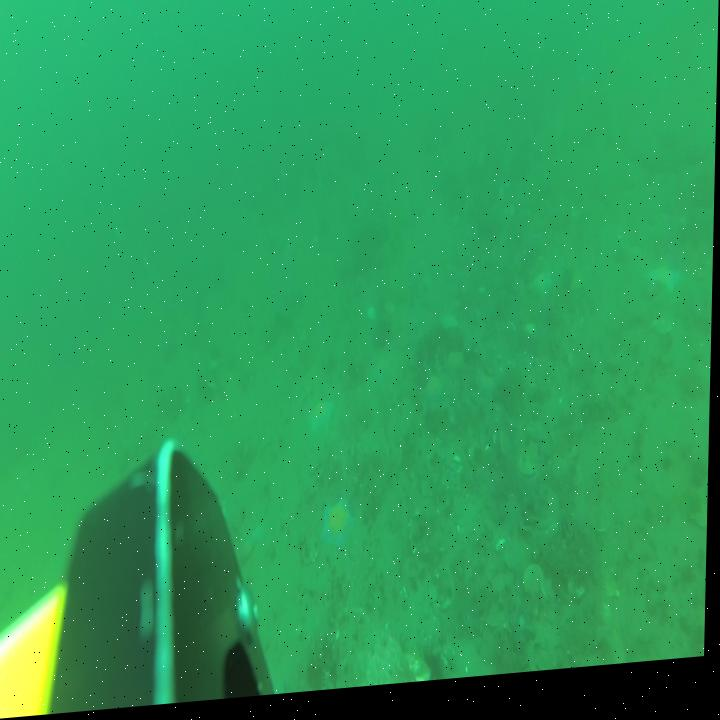echinus: (418, 644, 451, 690)
holothurian: (580, 407, 624, 440)
scallop: (598, 574, 627, 611), (524, 571, 548, 611), (484, 608, 510, 639), (591, 518, 615, 547), (303, 542, 322, 573), (406, 561, 427, 589), (569, 585, 590, 613), (518, 464, 539, 489), (543, 584, 560, 614), (653, 328, 674, 351), (500, 443, 516, 473)
starfish: (324, 501, 359, 558), (647, 274, 684, 312), (309, 404, 337, 443), (530, 278, 558, 315), (425, 377, 447, 416), (449, 351, 469, 387)
